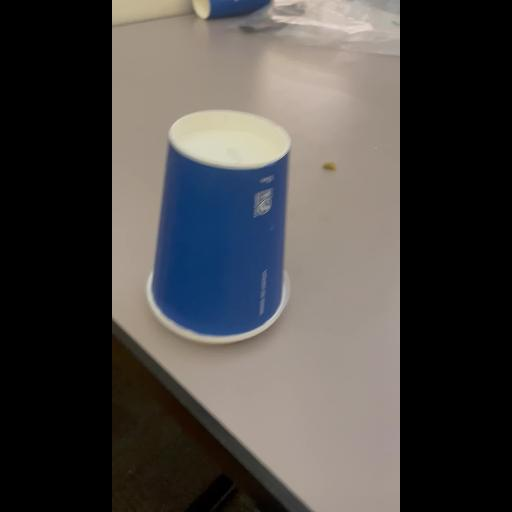lp_paper_cup: (146, 88, 296, 372)
